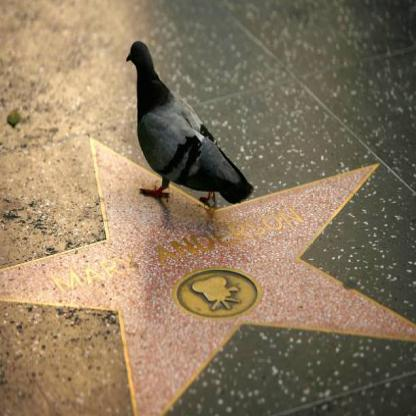Flying Rat: (125, 39, 250, 211)
